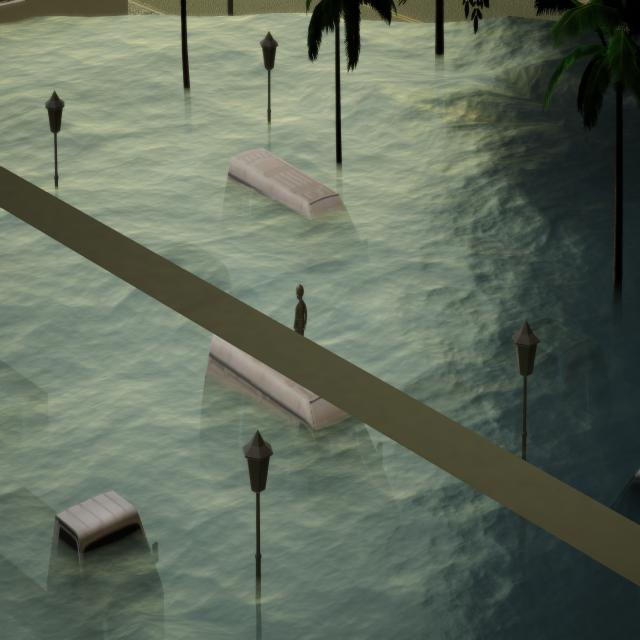Human: (289, 275, 310, 339)
